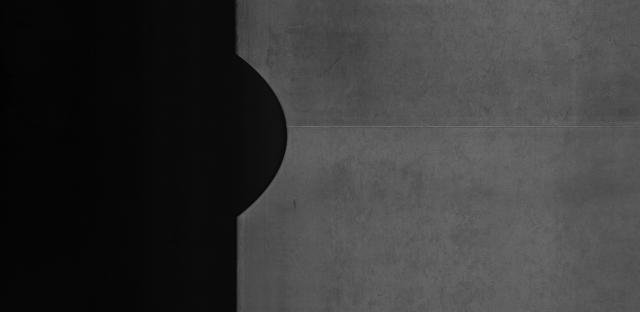crescent_gap: (198, 45, 299, 230)
welding_line: (274, 111, 636, 139)
